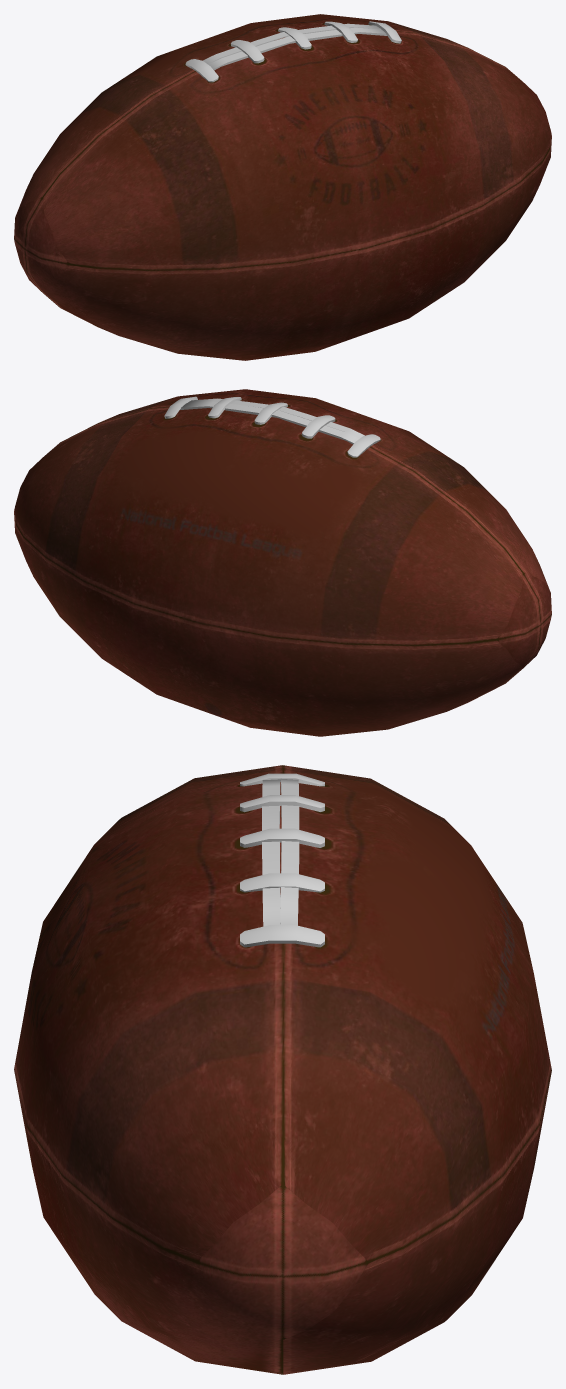
File: Rugby.fbx
The picture shows the model from 3 angles, top to bottom: view 1: azimuth 30°, elevation 25°; view 2: azimuth 150°, elevation 25°; view 3: azimuth 270°, elevation 25°; orthographic projection. The views are drawn at different scales.
Parts seen in each view (by area): view 1: Low, lacing; view 2: Low, lacing; view 3: Low, lacing.
Boxes of the visible parts, <box> form: Low: <box>14,14,551,360</box>; lacing: <box>185,21,401,82</box>; Low: <box>14,389,551,736</box>; lacing: <box>164,396,380,457</box>; Low: <box>14,765,551,1374</box>; lacing: <box>240,773,324,947</box>.
Size of the model in its own units: 200 by 112 by 111.
